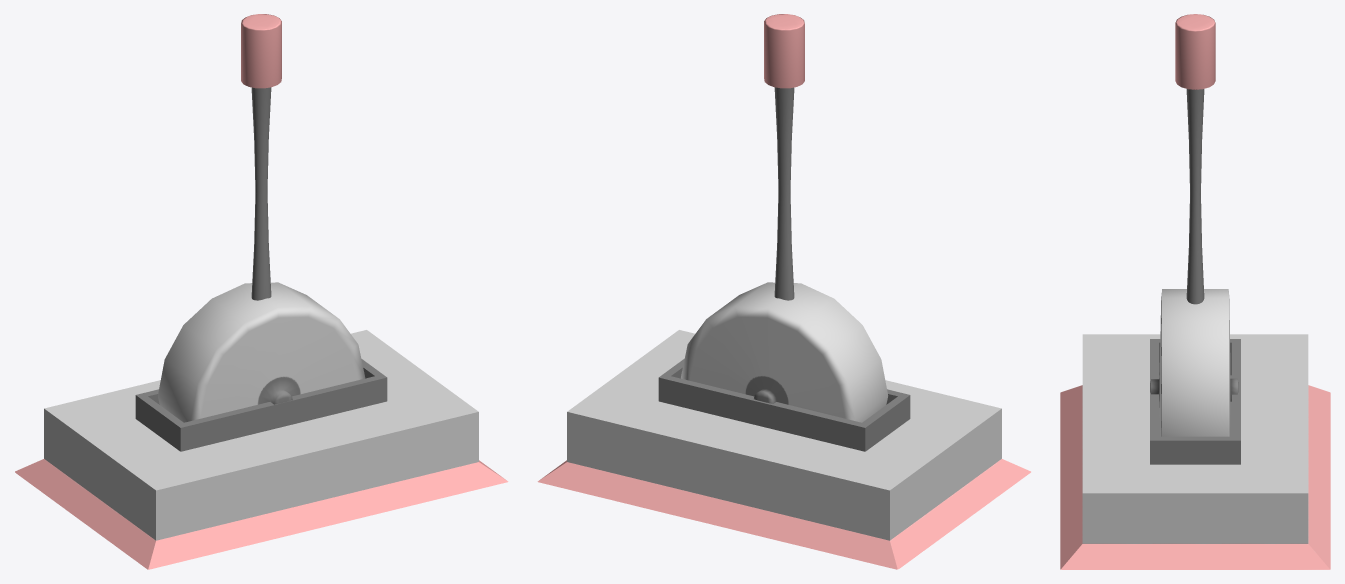
File: Lever_01.fbx
3 renders of one model, left to right at view 1: azimuth 30°, elevation 25°; view 2: azimuth 150°, elevation 25°; view 3: azimuth 270°, elevation 25°, orthographic.
Parts seen in each view (by area): view 1: Base, Handle; view 2: Base, Handle; view 3: Base, Handle.
Boxes of the visible parts, x1=… form: Base: x1=15, y1=330, x2=508, y2=569; Handle: x1=158, y1=14, x2=365, y2=422; Base: x1=537, y1=330, x2=1030, y2=569; Handle: x1=681, y1=14, x2=888, y2=422; Base: x1=1060, y1=334, x2=1330, y2=569; Handle: x1=1150, y1=14, x2=1238, y2=436.
Size of the model in its own units: 1.86 by 2.25 by 1.2.
2 materials, 2 textured.
